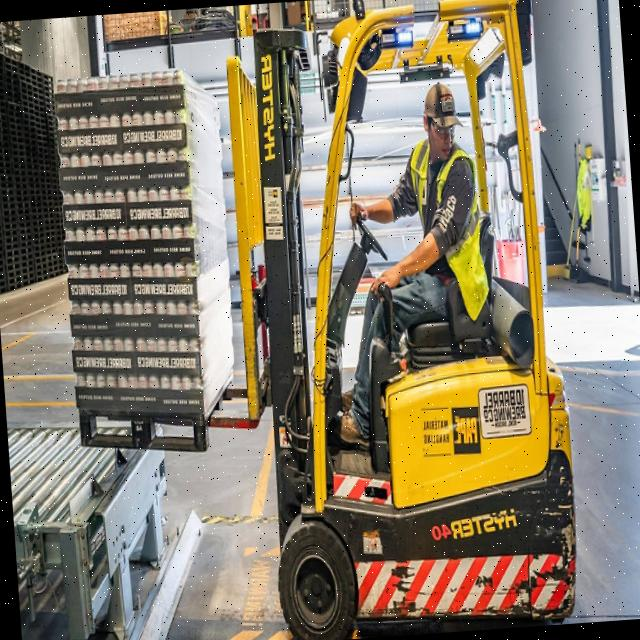Person: (308, 80, 491, 449)
